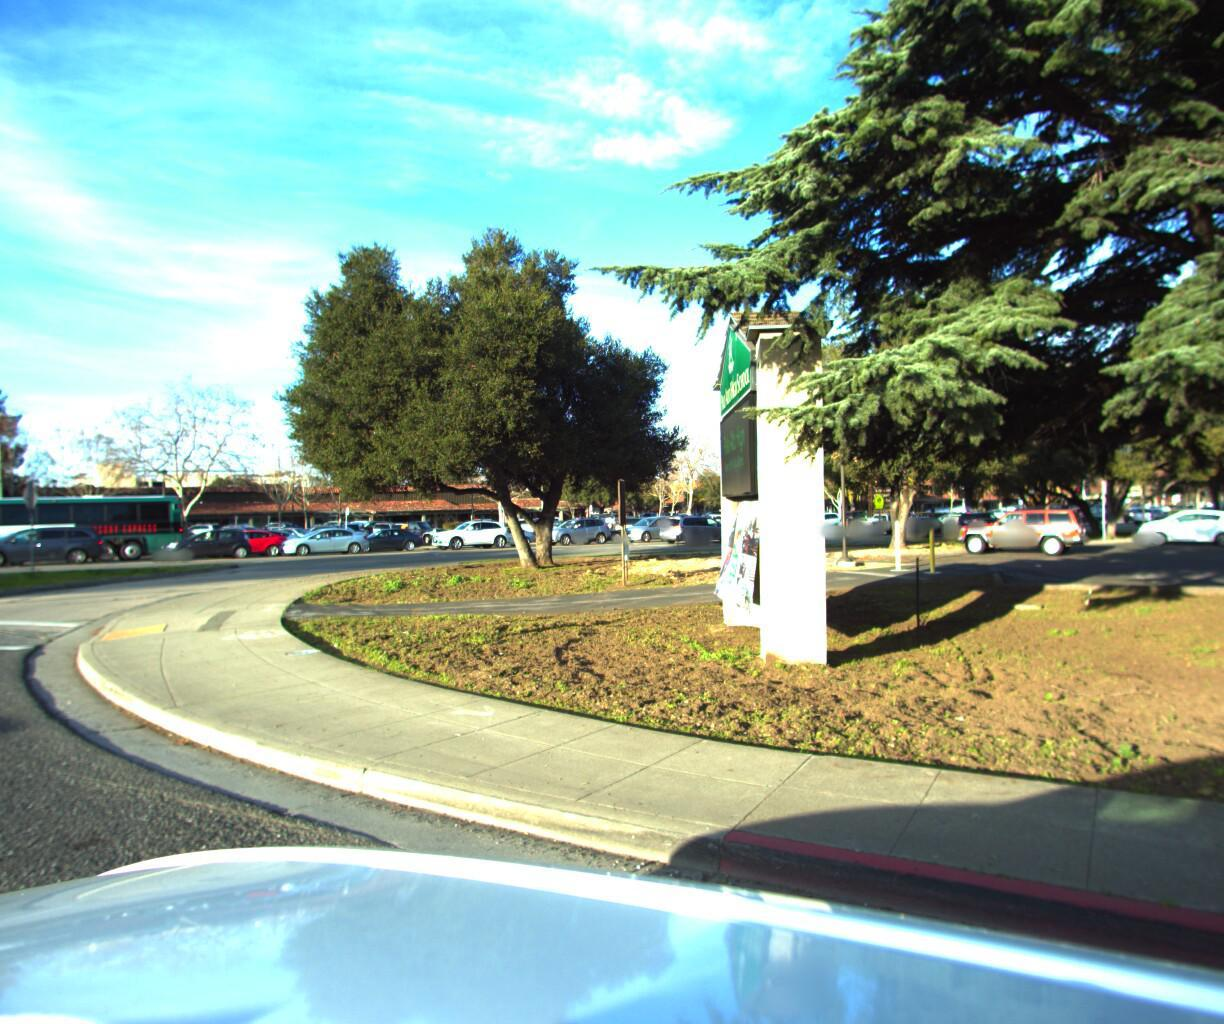car: (203, 520, 306, 556), (192, 521, 296, 556), (272, 518, 373, 552), (159, 520, 253, 556), (336, 517, 427, 550), (425, 511, 513, 545), (655, 504, 732, 539), (614, 506, 698, 538), (535, 508, 616, 540), (559, 515, 635, 545), (890, 503, 957, 533), (465, 518, 539, 544), (377, 513, 452, 538), (845, 499, 914, 527), (782, 501, 851, 529), (948, 502, 1012, 530), (937, 501, 984, 525)
